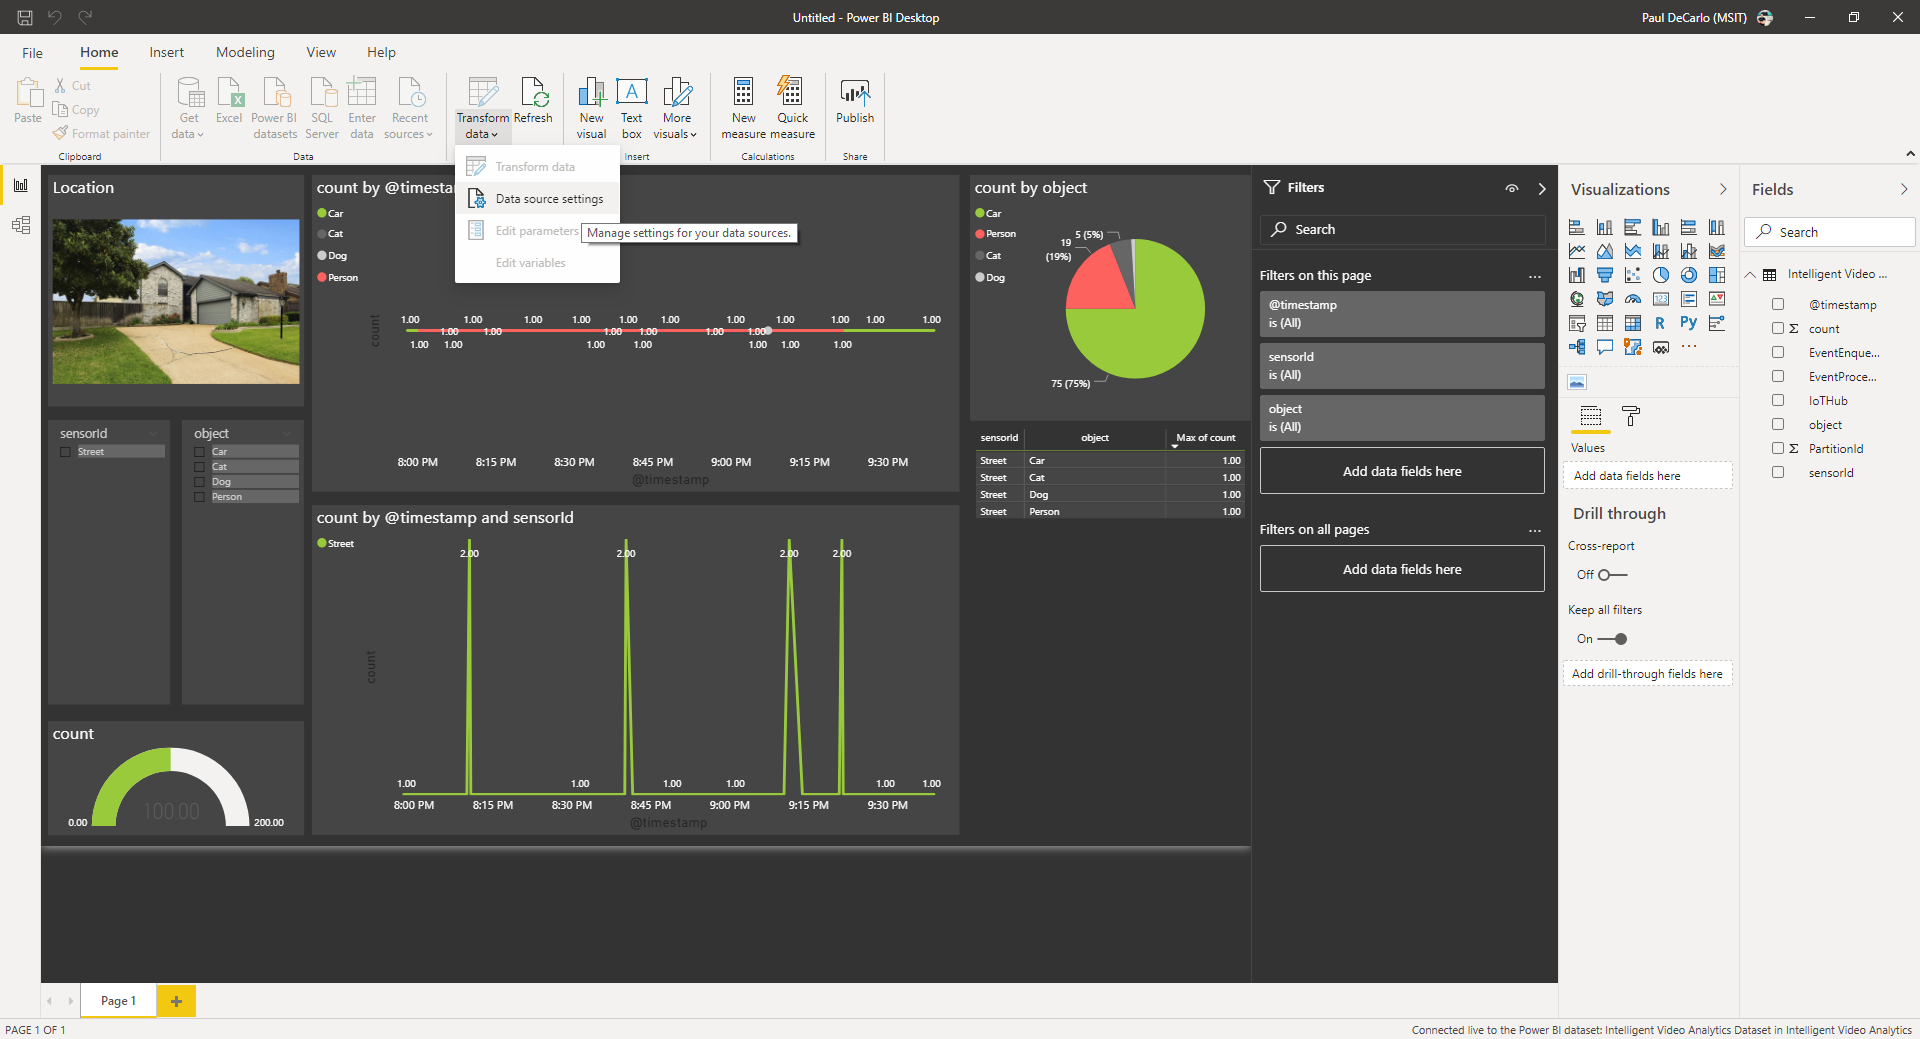

Layout of this report page (visuals, bound fields, positions):
{"tool":"powerbi","page":{"name":"Page 1","canvas":[1280,720],"ordinal":0},"visuals":[{"type":"tableEx","fields":{"Values":["AcceleratedEdge-ObjectDetections.sensorId","AcceleratedEdge-ObjectDetections.object","Max(AcceleratedEdge-ObjectDetections.count)"]},"box":[983.2,273.7,296.6,435.7],"z":0},{"type":"lineChart","fields":{"Series":["AcceleratedEdge-ObjectDetections.object"],"Category":["AcceleratedEdge-ObjectDetections.@timestamp"],"Y":["Sum(AcceleratedEdge-ObjectDetections.count)"]},"box":[286.9,10.6,684.8,335.4],"z":1000},{"type":"image","title":"3303 Meadway Dr. Houston, TX","box":[7,10.6,271.1,244.7],"z":2000},{"type":"gauge","fields":{"Y":["Sum(AcceleratedEdge-ObjectDetections.count)"]},"box":[7,588,271.1,121.5],"z":3000},{"type":"pieChart","fields":{"Category":["AcceleratedEdge-ObjectDetections.object"],"Y":["Sum(AcceleratedEdge-ObjectDetections.count)"]},"box":[983.3,10.2,296.7,259.5],"z":4000},{"type":"slicer","fields":{"Values":["AcceleratedEdge-ObjectDetections.sensorId"]},"box":[7,270.2,129.4,301],"z":5000},{"type":"slicer","fields":{"Values":["AcceleratedEdge-ObjectDetections.object"]},"box":[148.8,270.2,129.4,301],"z":6000},{"type":"lineChart","fields":{"Y":["Sum(AcceleratedEdge-ObjectDetections.count)"],"Category":["AcceleratedEdge-ObjectDetections.@timestamp"],"Series":["AcceleratedEdge-ObjectDetections.sensorId"]},"box":[286.9,360,684.8,349.4],"z":7000}]}

Visuals, with their boxes in screenshot pixels (x1, y1, x2, y2):
tableEx - AcceleratedEdge-ObjectDetections.sensorId x AcceleratedEdge-ObjectDetections.object: bbox=(1566, 386, 1919, 985)
lineChart - AcceleratedEdge-ObjectDetections.object x AcceleratedEdge-ObjectDetections.@timestamp: bbox=(609, 25, 1550, 485)
"3303 Meadway Dr. Houston, TX" image: bbox=(225, 25, 597, 361)
gauge - Sum(AcceleratedEdge-ObjectDetections.count): bbox=(225, 818, 597, 985)
pieChart - AcceleratedEdge-ObjectDetections.object x Sum(AcceleratedEdge-ObjectDetections.count): bbox=(1566, 24, 1919, 381)
slicer - AcceleratedEdge-ObjectDetections.sensorId: bbox=(225, 381, 402, 795)
slicer - AcceleratedEdge-ObjectDetections.object: bbox=(419, 381, 597, 795)
lineChart - Sum(AcceleratedEdge-ObjectDetections.count) x AcceleratedEdge-ObjectDetections.@timestamp: bbox=(609, 505, 1550, 985)
